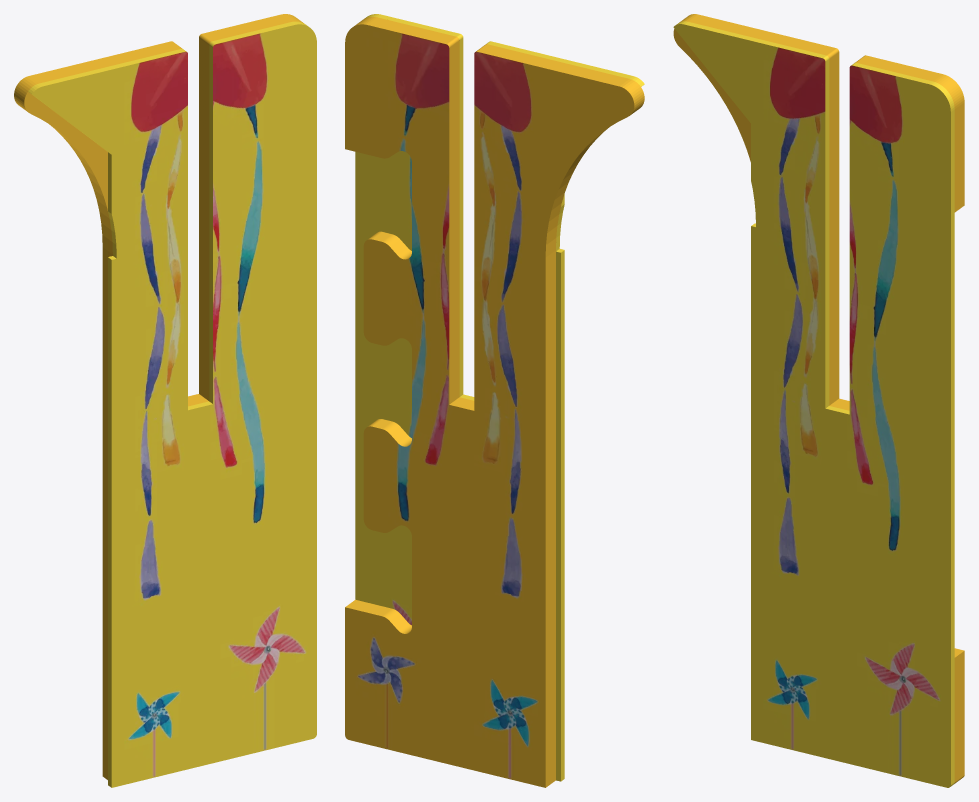
The model's file is door-left.glb.
3 renders of one model, left to right at view 1: azimuth 30°, elevation 25°; view 2: azimuth 150°, elevation 25°; view 3: azimuth 330°, elevation 25°, orthographic. The views are drawn at different scales.
Parts seen in each view (by area): view 1: door-left; view 2: door-left; view 3: door-left.
Boxes of the visible parts, box(x1,y1,x2,y2) form: door-left: box(14, 14, 316, 787); door-left: box(345, 14, 644, 787); door-left: box(673, 14, 964, 787).
Bounding box in the file's own units: 389 × 925 × 33.
Materials: 4 (2 with a texture image).
